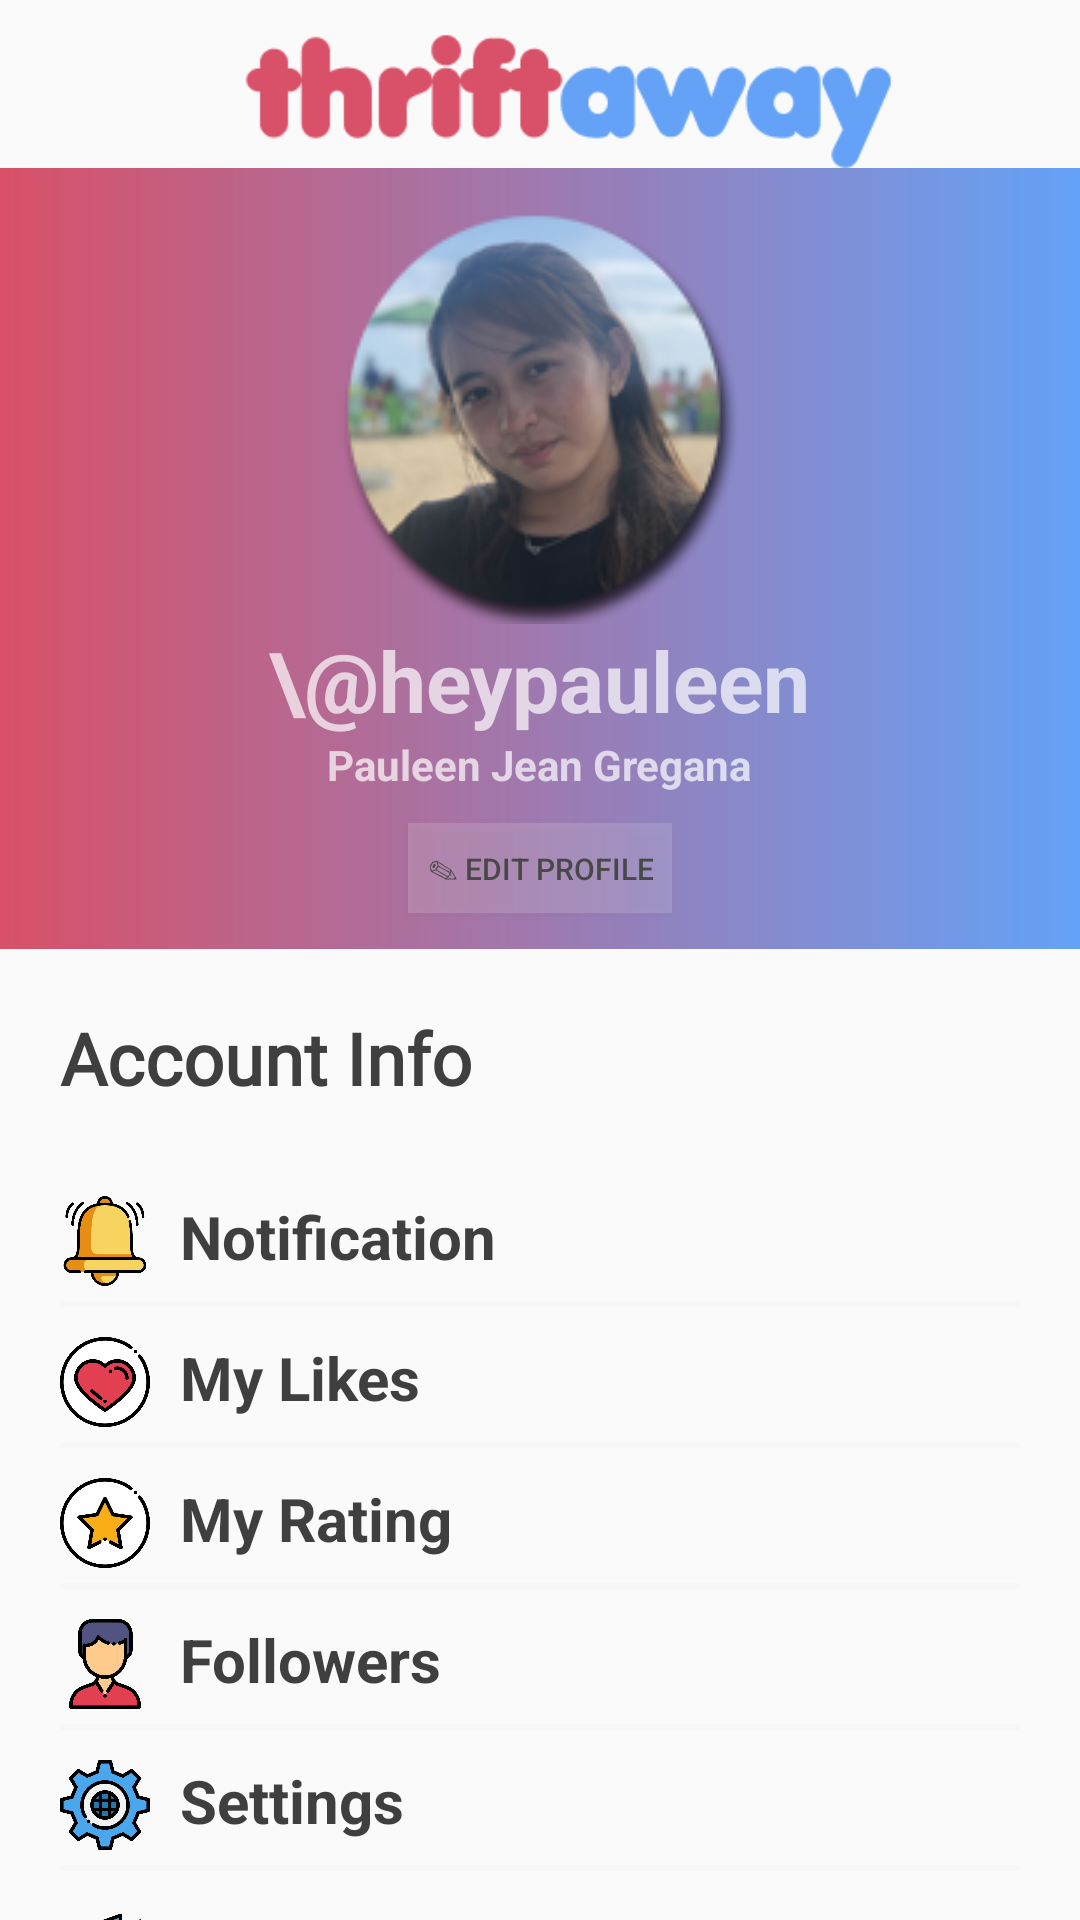

Screen size 1080 × 1920. Icon name, then its center in pixels as (x,y):
bell: (104,1241)
heart: (105,1382)
star: (105,1523)
